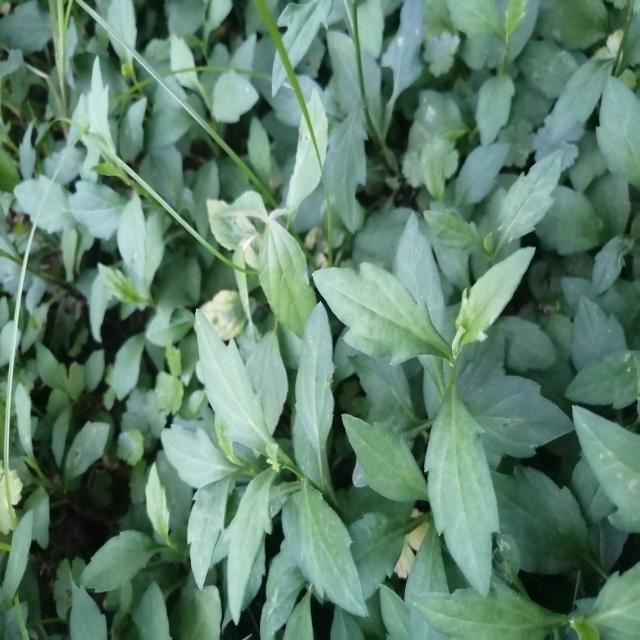Indian aster: (345, 210, 539, 558), (175, 314, 362, 622)
